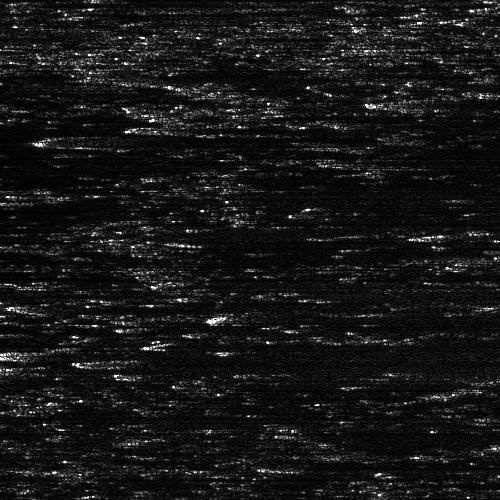object: (98, 115, 203, 142), (379, 96, 432, 109), (0, 0, 42, 8), (108, 358, 139, 367), (221, 310, 242, 323), (0, 350, 47, 355), (286, 285, 297, 304), (488, 393, 500, 398)
shadow: (151, 115, 222, 142), (0, 279, 74, 298), (292, 285, 366, 304), (16, 0, 162, 8), (406, 96, 482, 109), (231, 310, 304, 323), (124, 358, 198, 367), (20, 350, 91, 355)
